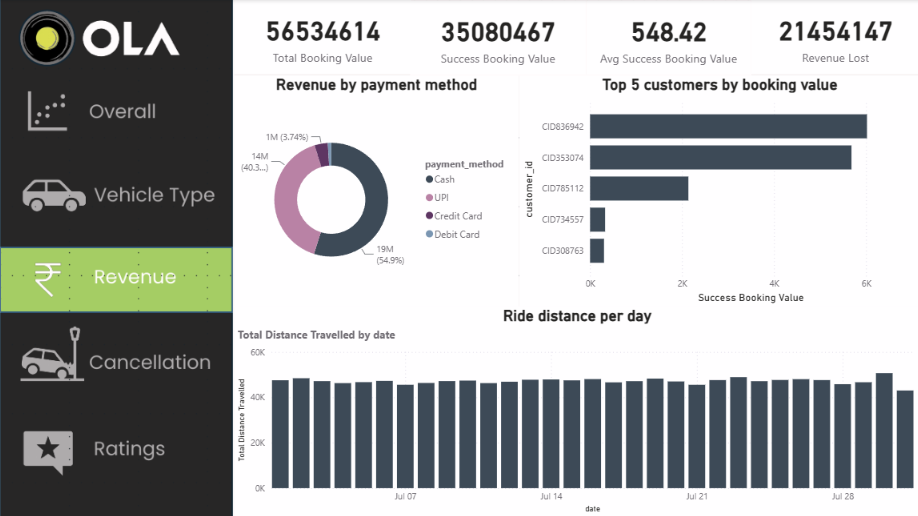

This screenshot's page, from the dashboard's own definition file:
{"tool":"powerbi","page":{"name":"Revenue","canvas":[1280,720],"ordinal":2},"visuals":[{"type":"card","fields":{"Values":["ola_rides.Total Booking Value"]},"box":[325.1,0,246.6,104.1],"z":0},{"type":"card","fields":{"Values":["ola_rides.Success Booking Value"]},"box":[570.6,1.2,244.9,103.8],"z":1000},{"type":"card","fields":{"Values":["ola_rides.Avg Success Booking Value"]},"box":[815.5,1.4,229.5,104.1],"z":2000},{"type":"card","fields":{"Values":["ola_rides.Revenue Lost"]},"box":[1045,0,235.2,104.1],"z":3000},{"type":"donutChart","title":"Revenue by payment method","fields":{"Category":["ola_rides.payment_method"],"Y":["ola_rides.Success Booking Value"]},"box":[325.1,105.5,396.3,322.2],"z":4000},{"type":"clusteredBarChart","title":"Top 5 customers by booking value","fields":{"Category":["ola_rides.customer_id"],"Y":["ola_rides.Success Booking Value"]},"box":[721.4,105.5,558.9,322.2],"z":5000},{"type":"clusteredColumnChart","title":"Ride distance per day","fields":{"Category":["ola_rides.date"],"Y":["ola_rides.Total Distance Travelled"]},"box":[325.1,427.7,955.2,292.3],"z":6000},{"type":"actionButton","box":[0,462.4,324.5,89.2],"z":6001},{"type":"actionButton","box":[0,115.5,324.5,89.2],"z":6002},{"type":"actionButton","box":[0,235.1,324.5,89.2],"z":6003},{"type":"actionButton","box":[1.4,585.7,324.5,89.2],"z":6004}]}

Visuals, with their boxes on the page's 1280x720 design canvas (x1, y1, x2, y2). These are canvas units, not pixel positions in the 918x516 screenshot, which may show the page scaled, cropped or inside an application window:
card - ola_rides.Total Booking Value: (325,0,572,104)
card - ola_rides.Success Booking Value: (571,1,816,105)
card - ola_rides.Avg Success Booking Value: (816,1,1045,106)
card - ola_rides.Revenue Lost: (1045,0,1280,104)
"Revenue by payment method" donutChart: (325,106,721,428)
"Top 5 customers by booking value" clusteredBarChart: (721,106,1280,428)
"Ride distance per day" clusteredColumnChart: (325,428,1280,720)
actionButton: (0,462,324,552)
actionButton: (0,116,324,205)
actionButton: (0,235,324,324)
actionButton: (1,586,326,675)
